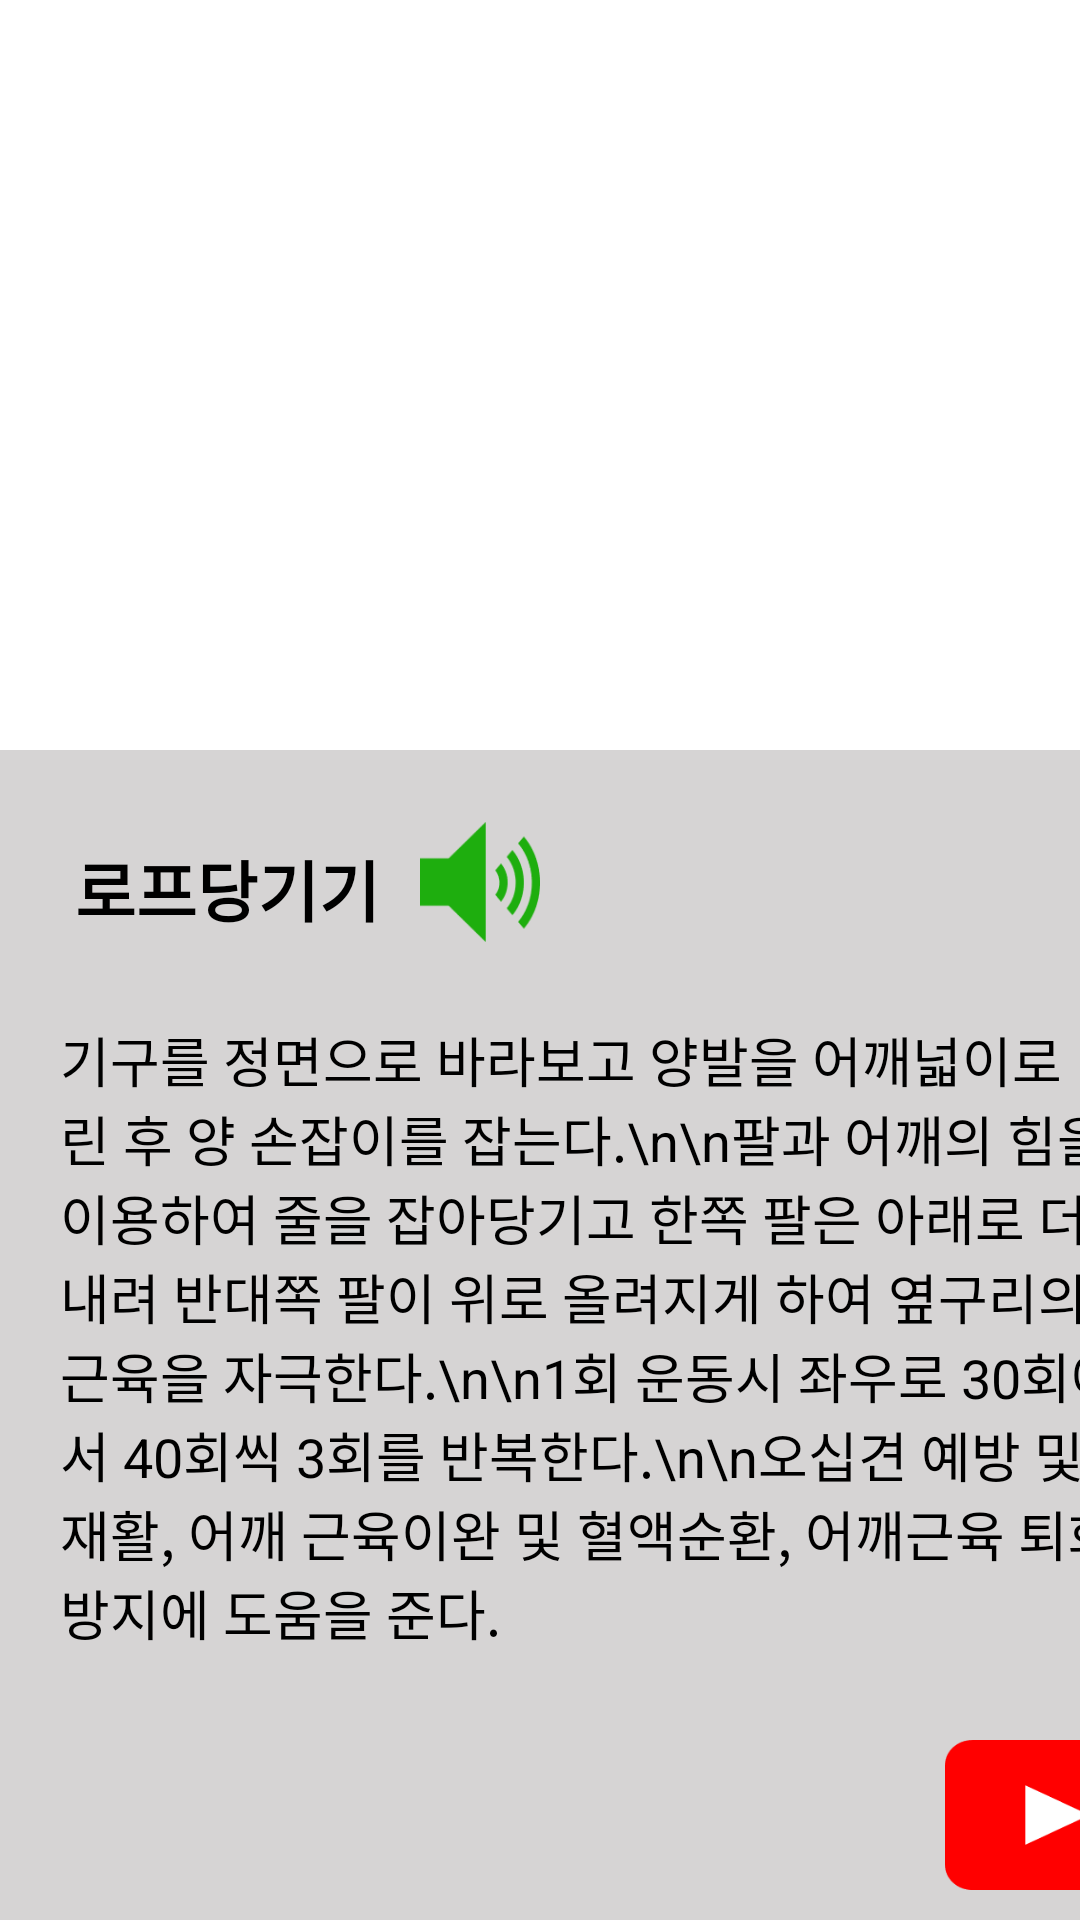

Icon click points for this 1080 x 1920 phone screenshot, format (x=x, y=y):
sound: (x=480, y=882)
